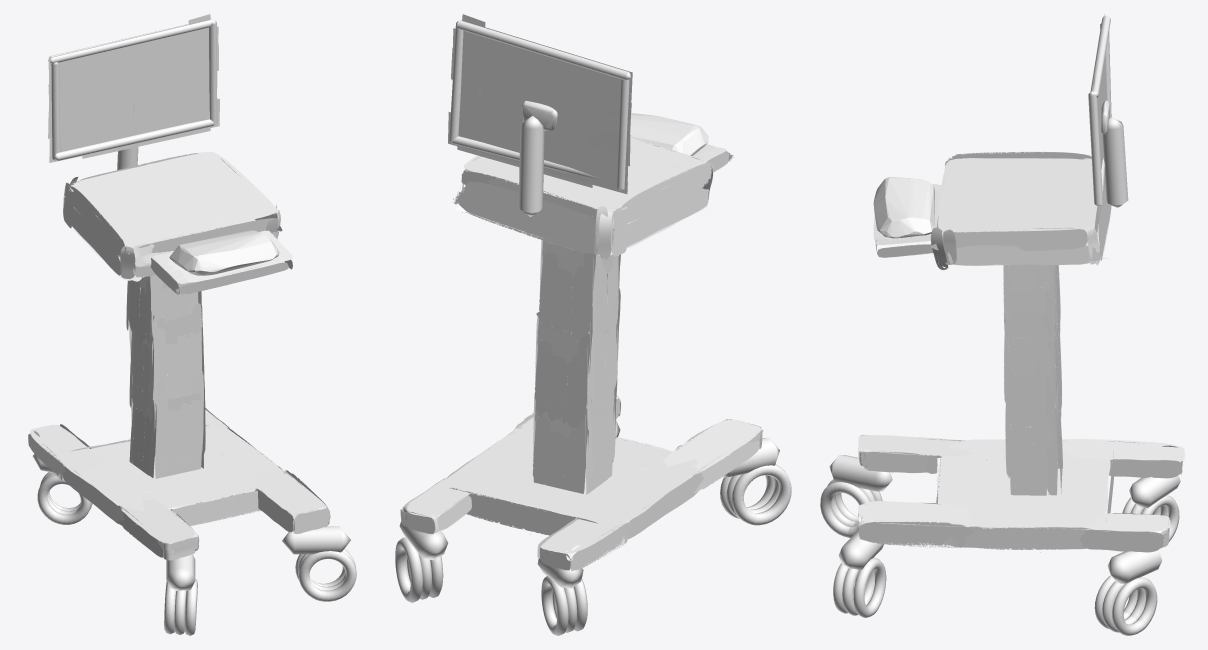
File: MedicalCartTest.glb
3 renders of one model, left to right at view 1: azimuth 30°, elevation 25°; view 2: azimuth 150°, elevation 25°; view 3: azimuth 270°, elevation 25°, orthographic. The views are drawn at different scales.
Visible parts, largest first — view 1: brush_Gouache_g0_b0, brush_Charcoal_g0_b0, brush_Icing_g0_b0, brush_TubeToonInverted_g0_b0, brush_MatteHull_g0_b0; view 2: brush_Gouache_g0_b0, brush_Charcoal_g0_b0, brush_Icing_g0_b0, brush_TubeToonInverted_g0_b0, brush_MatteHull_g0_b0, brush_SmoothHull_g0_b0; view 3: brush_Gouache_g0_b0, brush_Icing_g0_b0, brush_MatteHull_g0_b0, brush_TubeToonInverted_g0_b0, brush_Charcoal_g0_b0.
Part boxes in pixels (x1,y1,x2,y2): brush_Gouache_g0_b0: (28,151,330,560); brush_Charcoal_g0_b0: (48,14,219,162); brush_Icing_g0_b0: (32,103,356,635); brush_TubeToonInverted_g0_b0: (48,18,217,160); brush_MatteHull_g0_b0: (169,230,279,275); brush_Gouache_g0_b0: (400,137,763,570); brush_Charcoal_g0_b0: (448,14,632,194); brush_Icing_g0_b0: (395,116,791,635); brush_TubeToonInverted_g0_b0: (449,20,630,190); brush_MatteHull_g0_b0: (630,113,708,155); brush_SmoothHull_g0_b0: (522,100,557,130); brush_Gouache_g0_b0: (855,151,1188,552); brush_Icing_g0_b0: (820,117,1180,635); brush_MatteHull_g0_b0: (873,177,934,238); brush_TubeToonInverted_g0_b0: (1088,15,1111,206); brush_Charcoal_g0_b0: (1093,14,1107,210).
Size of the model in its own units: 2.59 by 5.77 by 3.64.
Materials: 6 (1 with a texture image).
